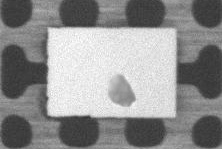DIE_INK: (108, 72, 135, 107)
